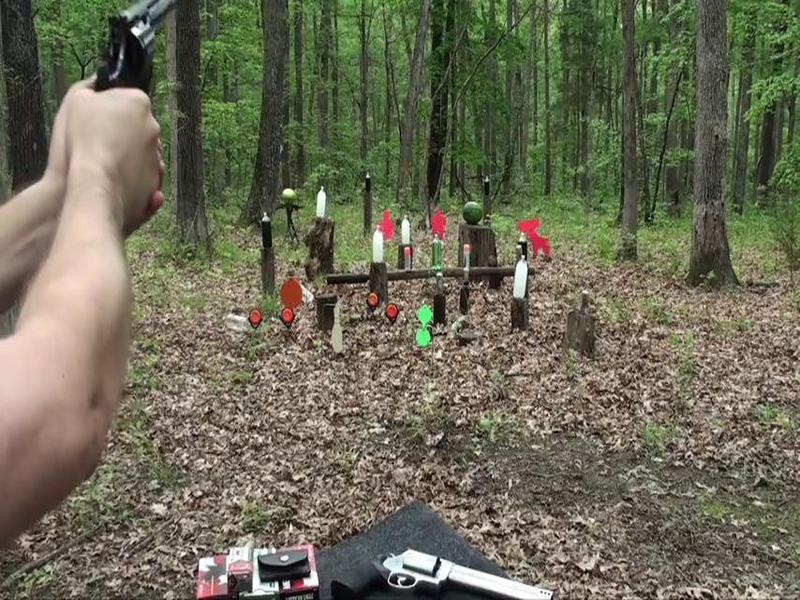Revolver: (313, 533, 553, 600)
